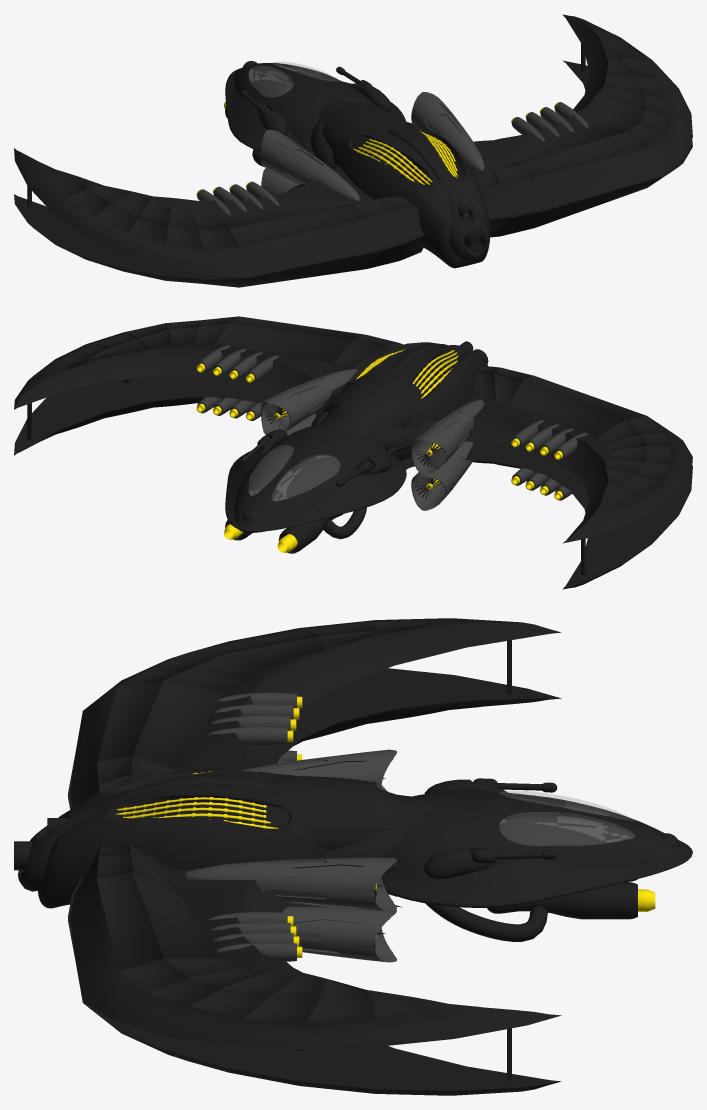
The model's file is crosswing5.dae.
3 views of the same model, one above another, from view 1: azimuth 30°, elevation 25°; view 2: azimuth 150°, elevation 25°; view 3: azimuth 270°, elevation 25° (orthographic). The views are drawn at different scales.
Visible parts, largest first — view 1: Polygon; view 2: Polygon; view 3: Polygon.
Part boxes in pixels (x1,y1,x2,y2): Polygon: (14,14,692,287); Polygon: (14,316,692,589); Polygon: (14,618,692,1095).
Bounding box in the file's own units: 1232 × 183 × 837.
